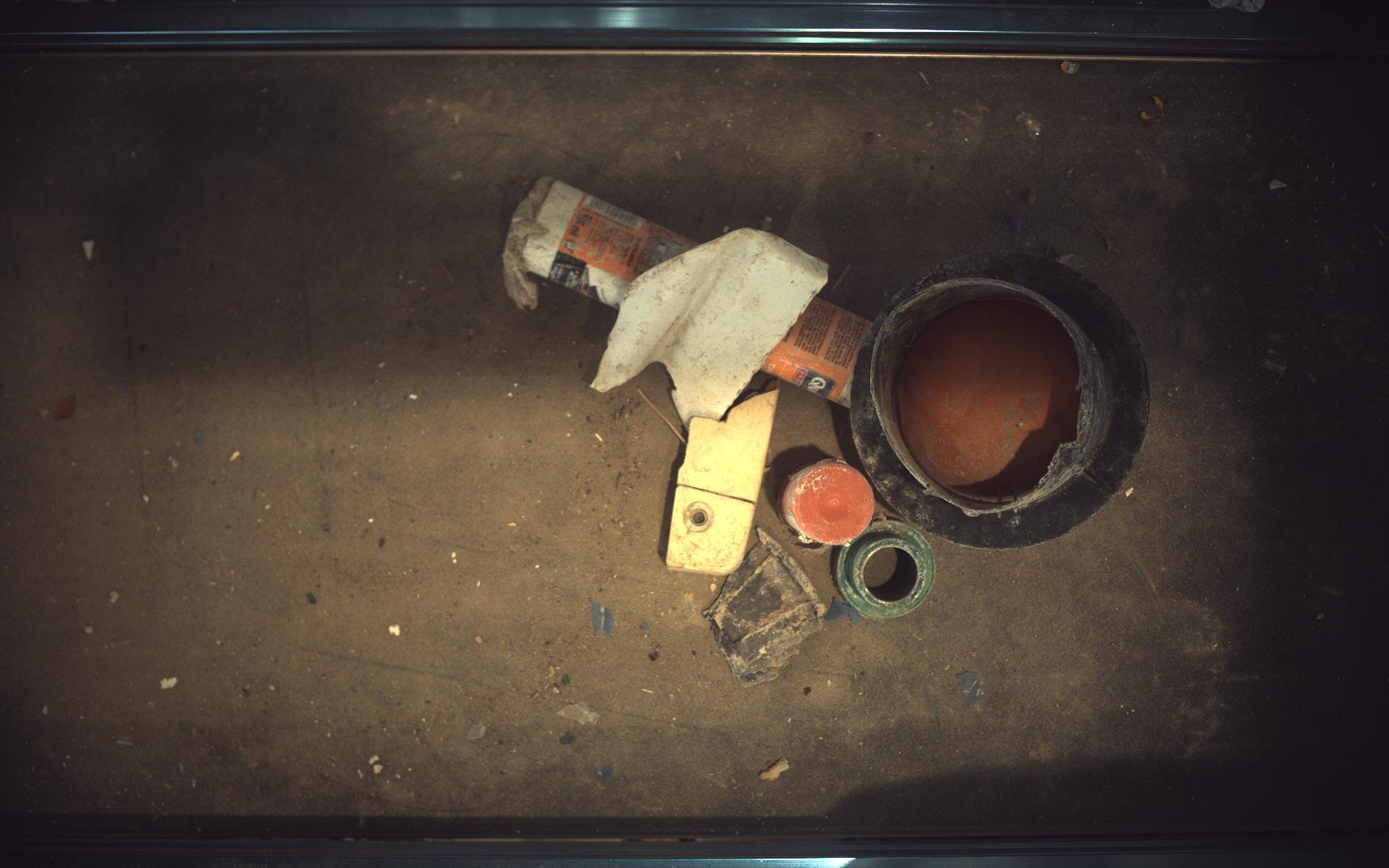plastic: (852, 253, 1152, 548), (592, 227, 828, 425), (899, 297, 1082, 503), (504, 178, 697, 307), (667, 390, 780, 575), (705, 528, 828, 687), (764, 300, 871, 405), (838, 521, 938, 620), (781, 459, 877, 547)
